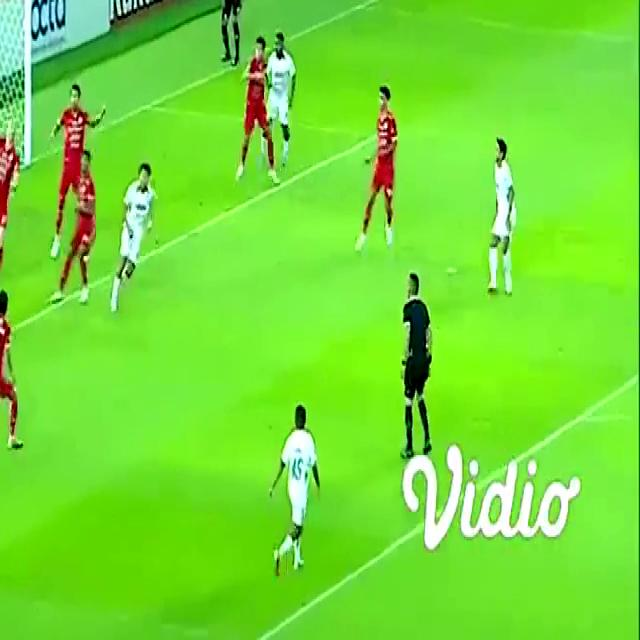referee: (390, 266, 439, 474)
soccer-player: (262, 391, 328, 584), (356, 76, 415, 249), (474, 126, 530, 302), (107, 155, 162, 318), (234, 29, 272, 201), (70, 150, 99, 298), (0, 114, 22, 300), (0, 298, 22, 458)
